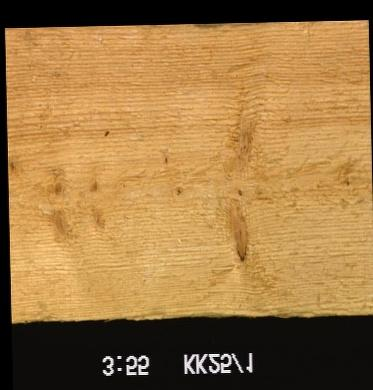small_knot: (6, 154, 24, 178), (83, 175, 102, 196), (339, 173, 353, 190), (158, 149, 171, 167), (170, 182, 183, 199)
